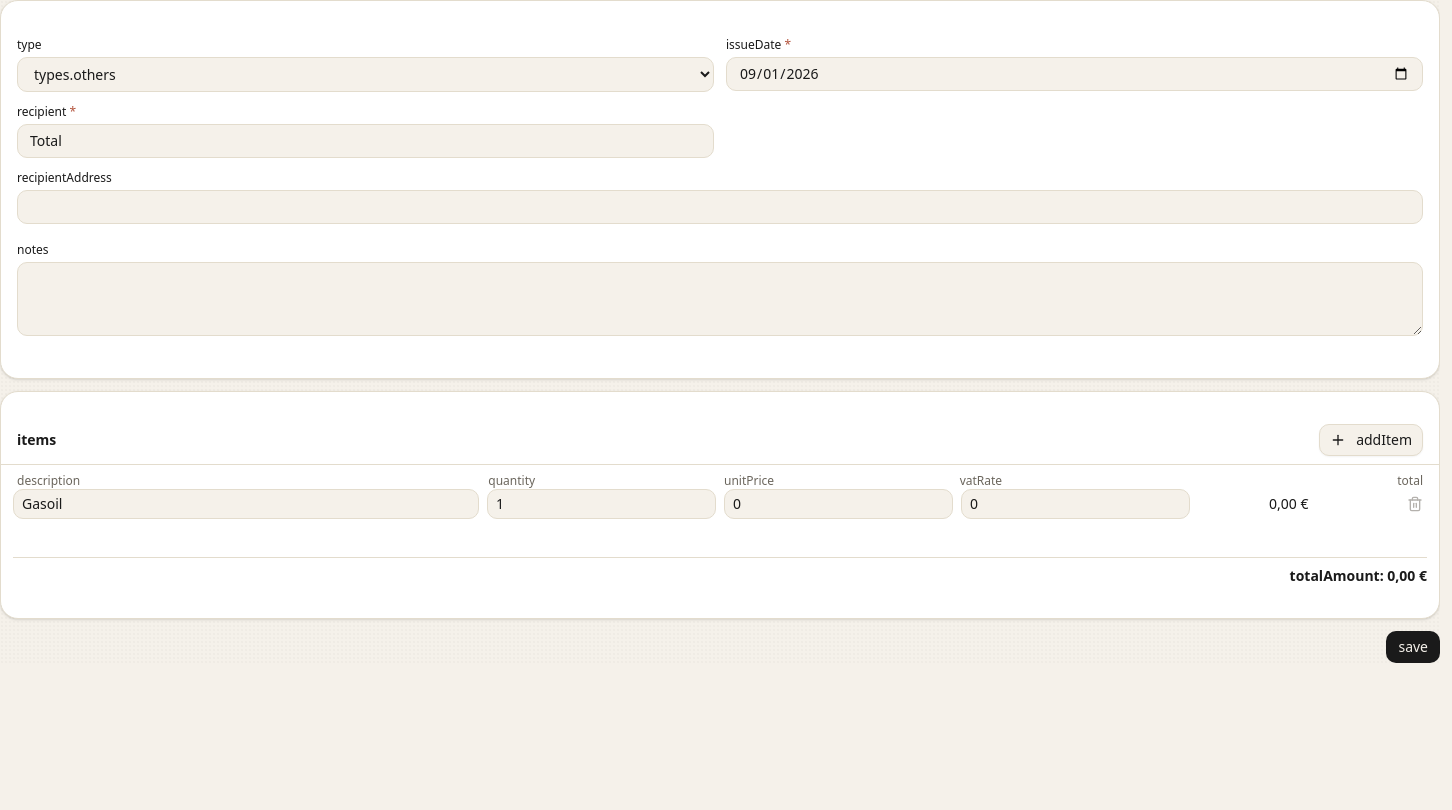
Test: InvoiceForm — decimal line figures › refuses figure 0 = 1e3 with errorQuantityInvalid
Replace the text in the field named "quantity" with "1e3" at (602, 504), box [487,489,716,519]
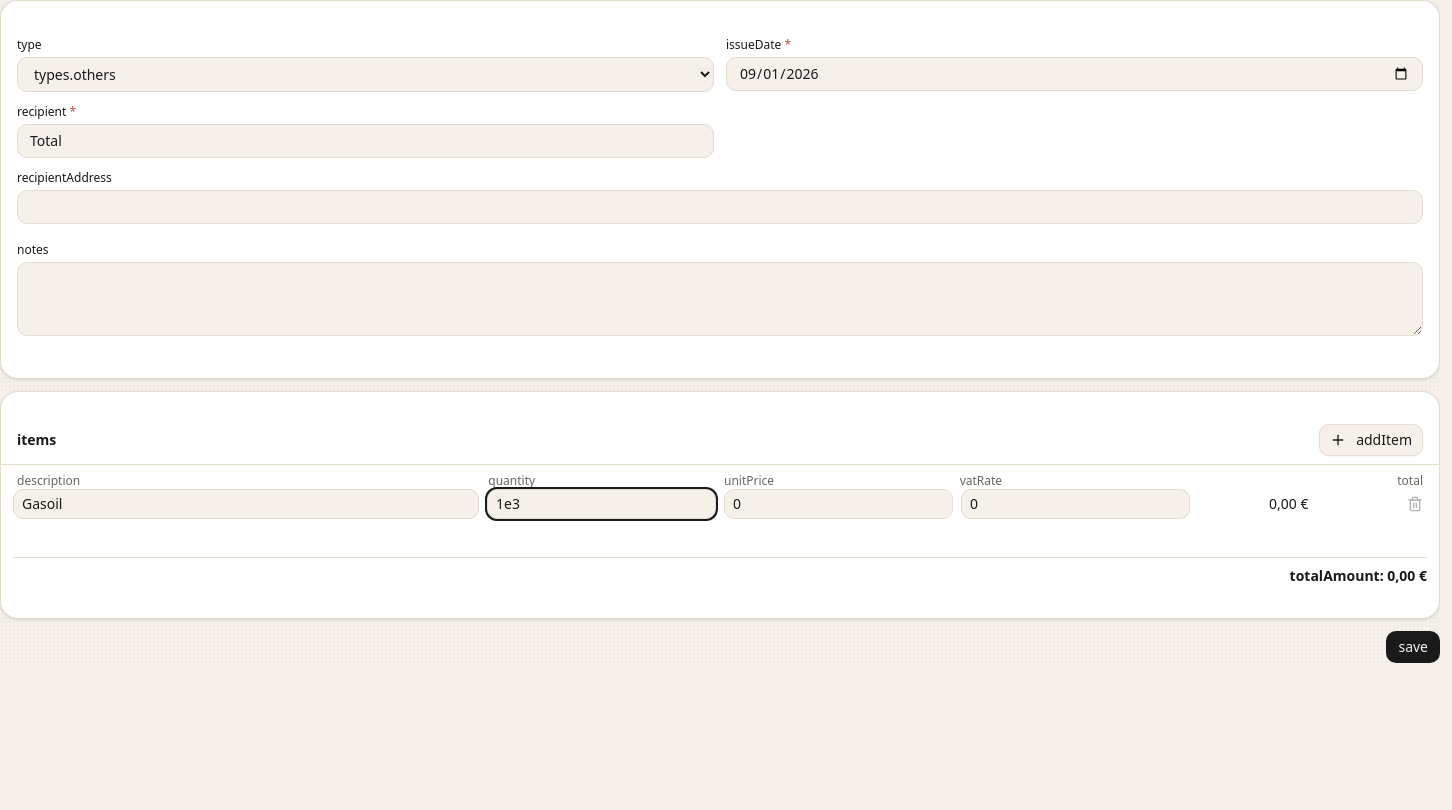
Submit the form
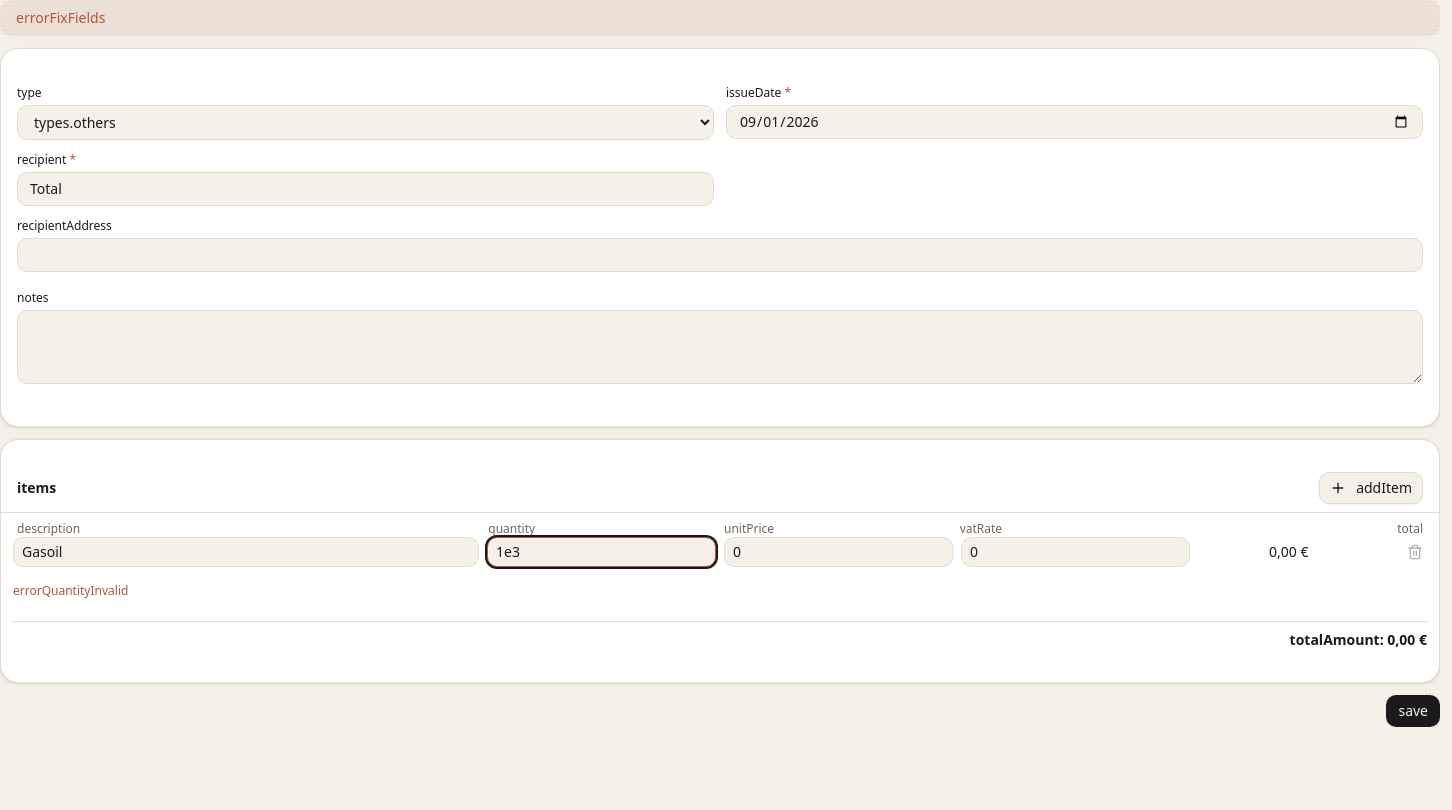
Expected: the text "errorQuantityInvalid" is shown, [13,582,128,599]
